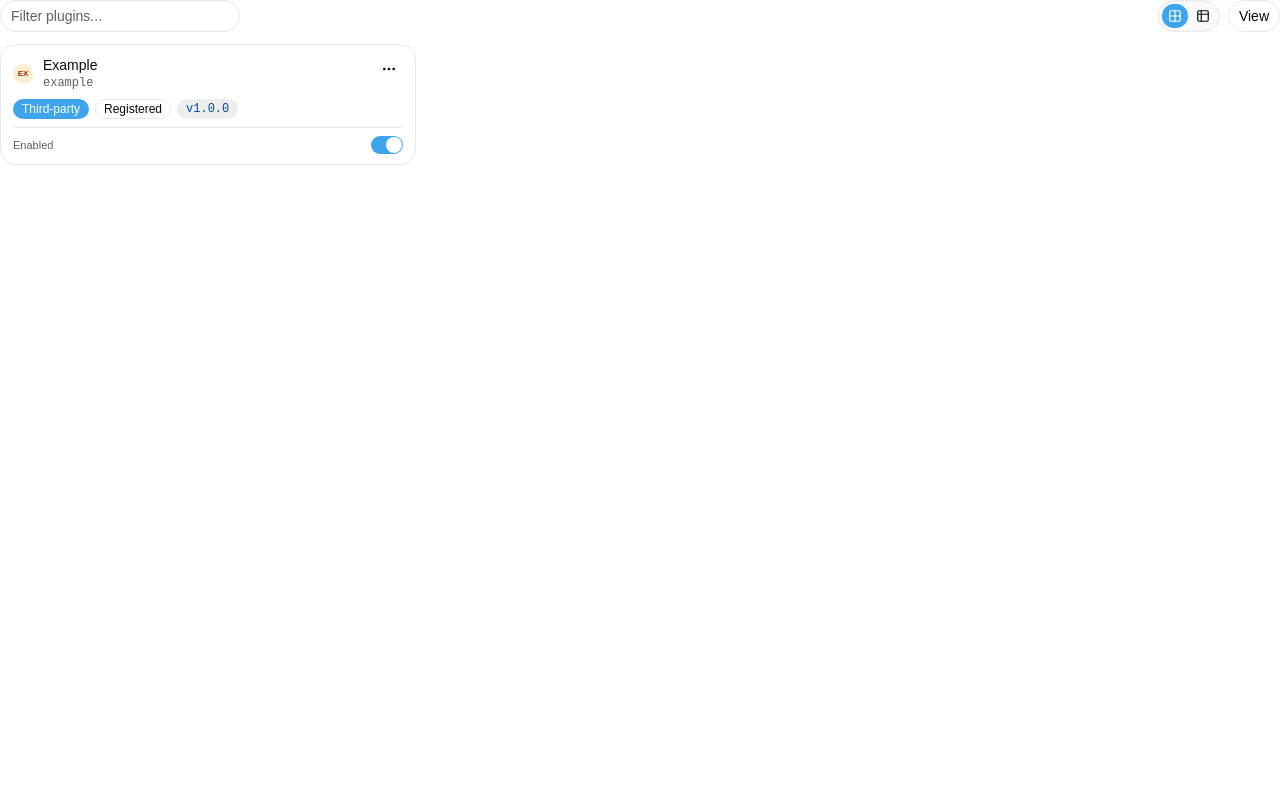
Test: failed status request leaves confirmation available to retry and preserves the switch
Click the switch named "Enable plugin example".
click(387, 145)  # box [371,136,403,154]
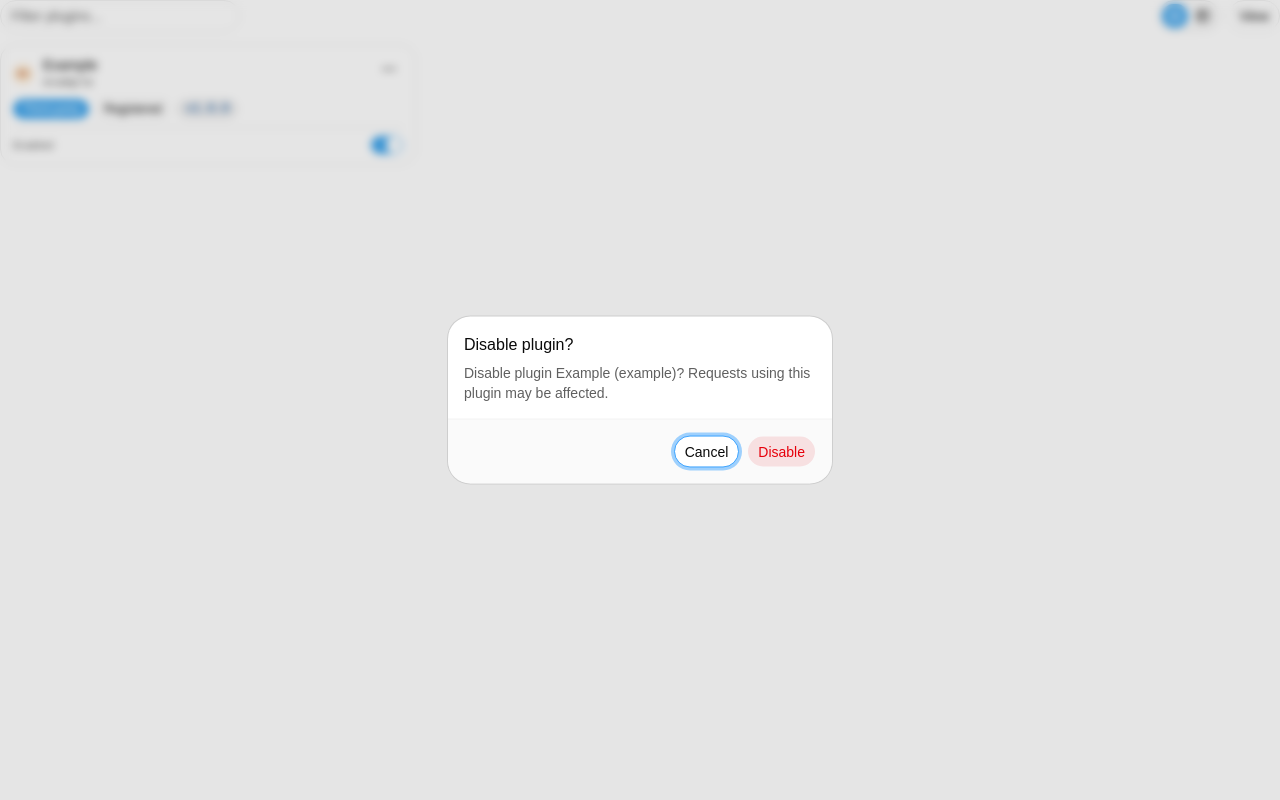
Click the button "Disable".
click(782, 452)  # box [747,436,816,468]
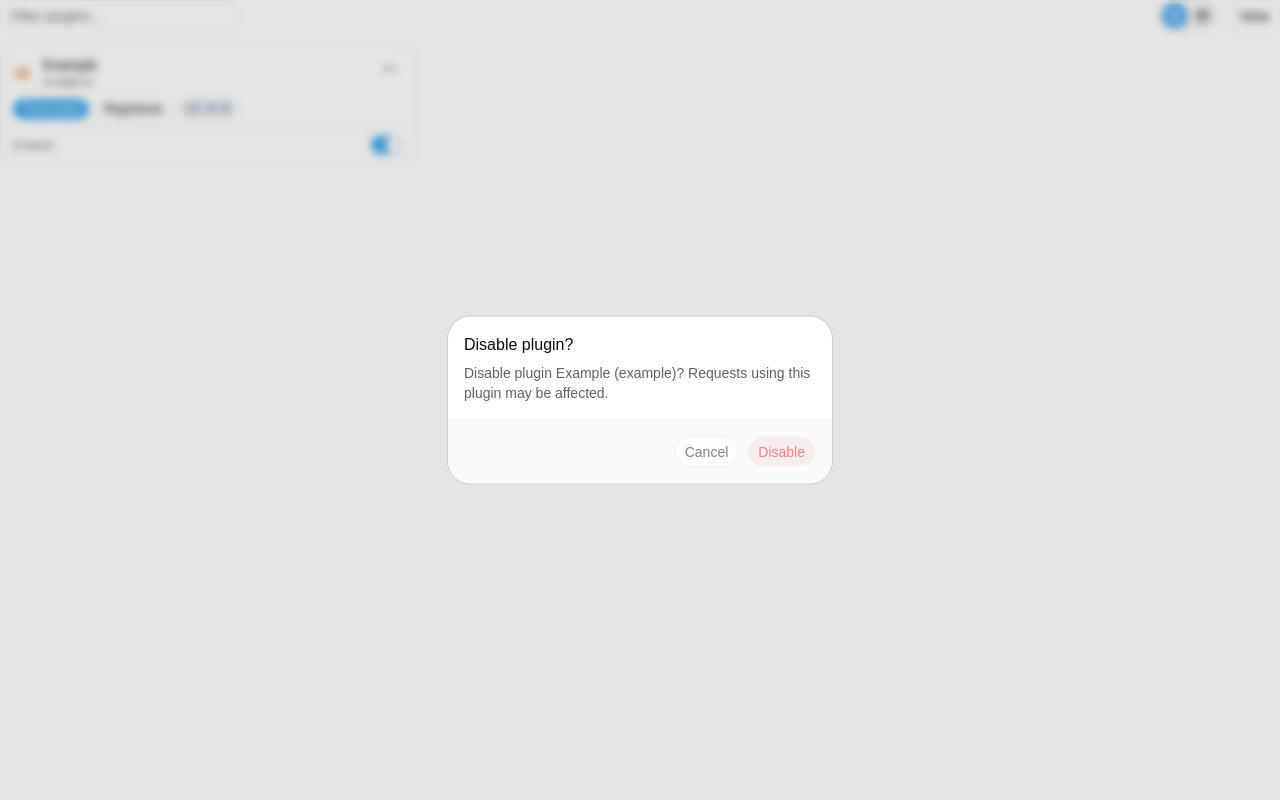
Expected: the button "Disable" is disabled
Expected: the button "Cancel" is disabled, [674,436,739,468]
Click the button "Disable".
click(782, 452)  # box [747,436,816,468]
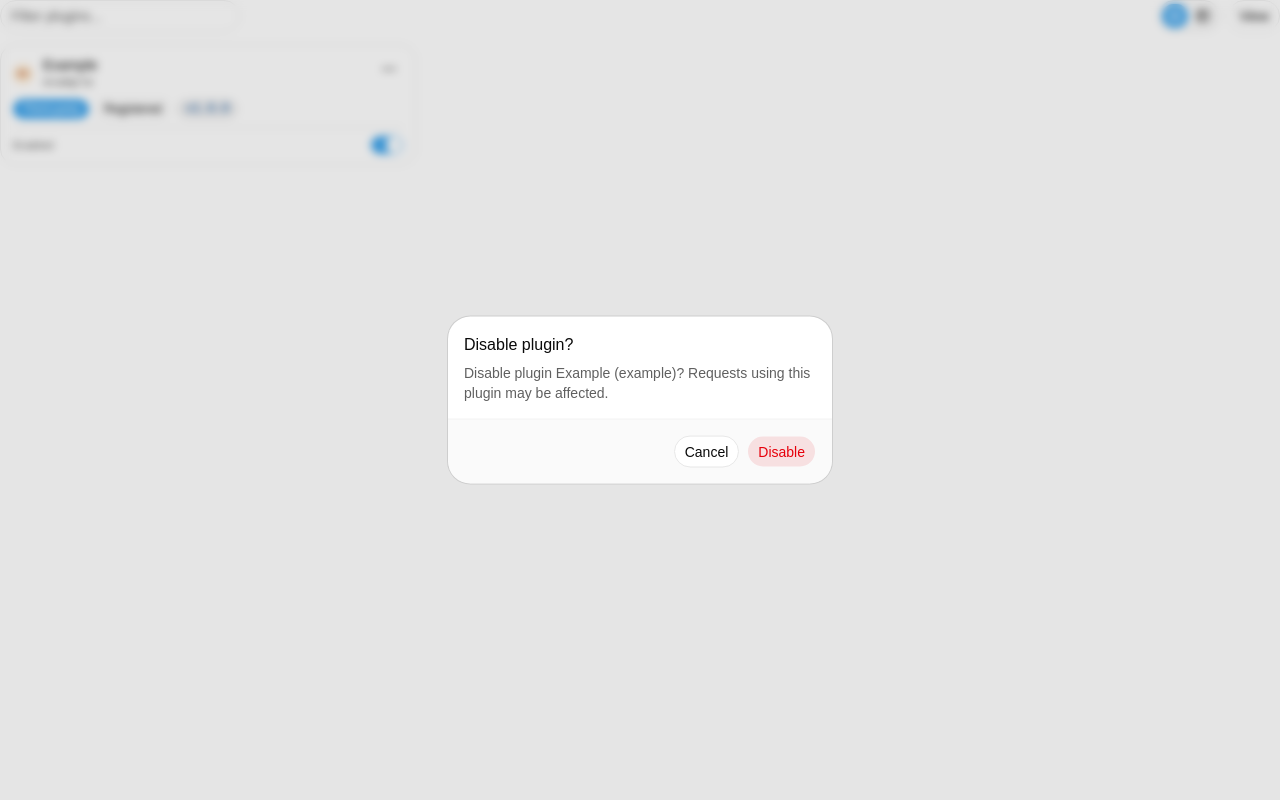
Expected: the dialog "Disable plugin?" is shown, [448,316,832,484]
Expected: the button "Disable" is enabled, [747,436,816,468]
